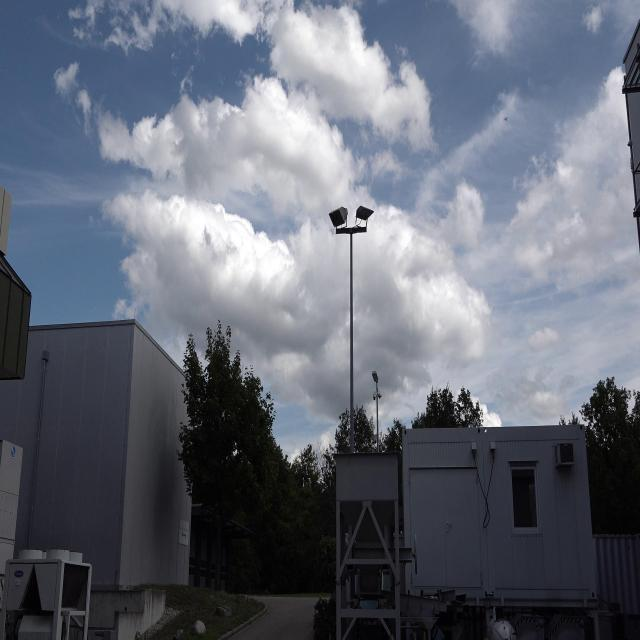drone: (501, 112, 512, 128)
